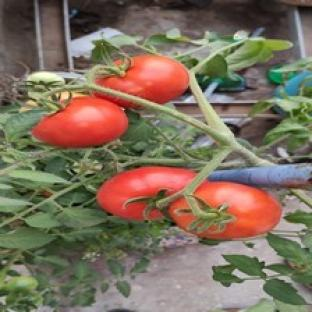Tomato: (97, 166, 196, 220), (193, 182, 282, 239), (33, 97, 128, 147), (95, 55, 189, 104), (27, 72, 65, 98), (6, 276, 37, 292), (55, 91, 87, 101)
